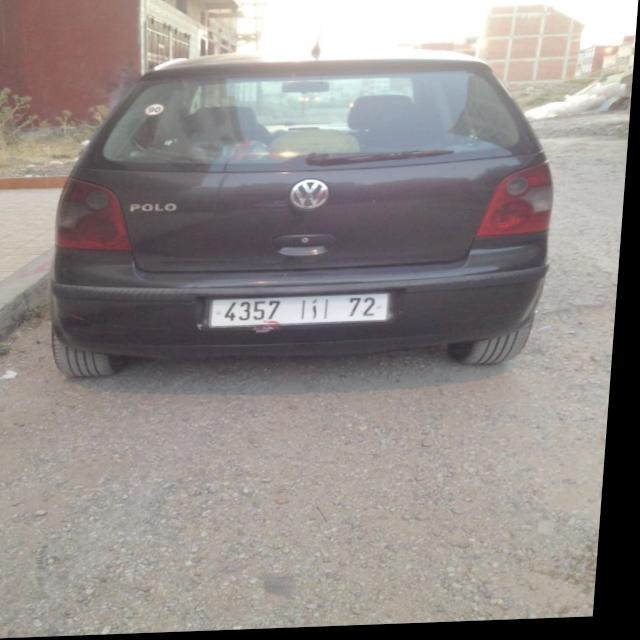License-Plate: (216, 297, 394, 329)
